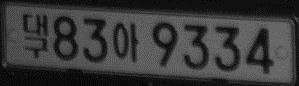3: (214, 25, 241, 72), (183, 23, 209, 70), (82, 17, 107, 63)
4: (245, 27, 274, 74)
8: (52, 15, 79, 61)
9: (151, 21, 178, 67)
대구_V: (22, 13, 48, 59)
아: (113, 22, 138, 62)
